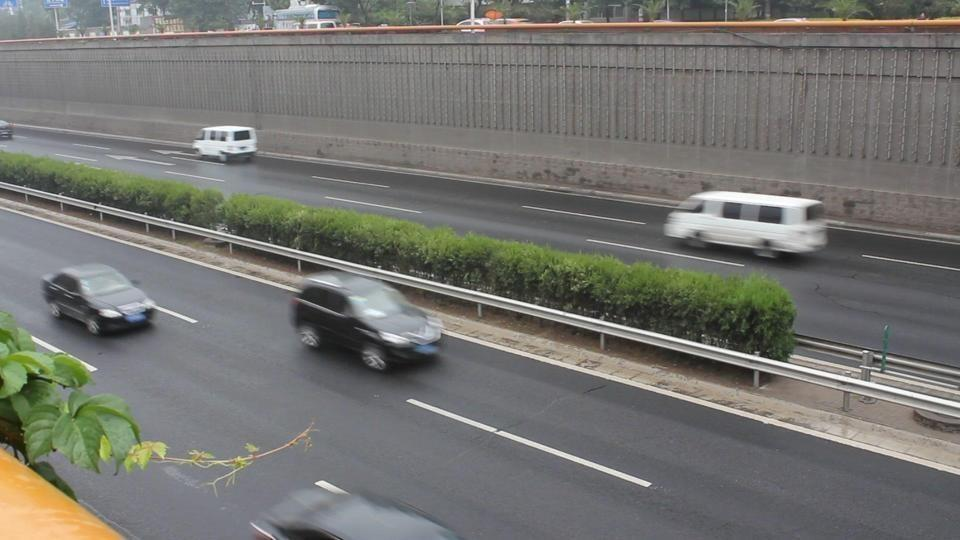car: (288, 270, 446, 372), (246, 479, 461, 539), (664, 190, 829, 259), (39, 262, 156, 336), (192, 126, 258, 164), (0, 119, 15, 140)
